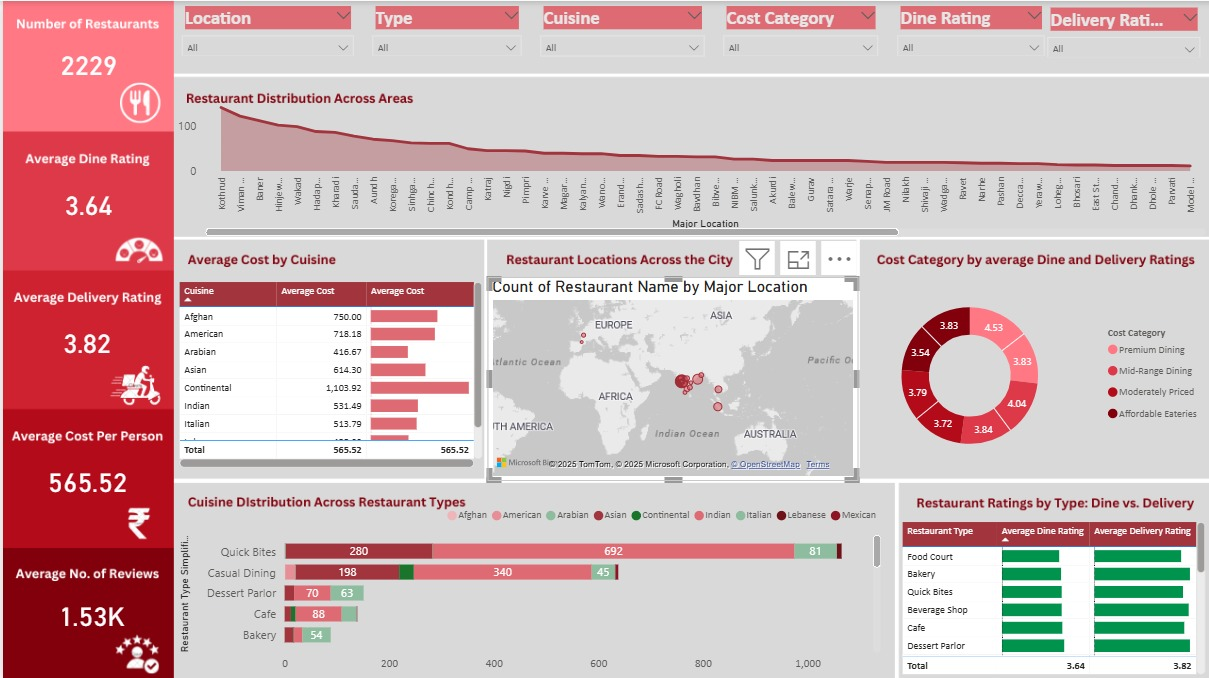

Layout of this report page (visuals, bound fields, positions):
{"tool":"powerbi","page":{"name":"Page 1","canvas":[1280,720],"ordinal":0},"visuals":[{"type":"card","fields":{"Values":["CountNonNull(Sheet2.Restaurant Name)"]},"box":[2,0,178,134],"z":0},{"type":"donutChart","fields":{"Category":["Sheet2.Cost Category"],"Y":["Avg(Sheet2.Dine Rating)","Avg(Sheet2.Delivery Rating)"]},"box":[873.2,294.3,407.2,205.2],"z":1000},{"type":"areaChart","fields":{"Category":["Sheet2.Major Location"],"Y":["CountNonNull(Sheet2.Restaurant Name)"]},"box":[180,94,1100,160],"z":2000},{"type":"barChart","fields":{"Category":["Sheet2.Restaurant Type Simplified"],"Series":["Sheet2.Cuisine Final"],"Y":["CountNonNull(Sheet2.Restaurant Name)"]},"box":[182,526,754,192],"z":3000},{"type":"tableEx","fields":{"Values":["Sheet2.Cuisine Final","Sheet2.Average Cost","Avg(Sheet2.Cost Rs.)"]},"box":[181.7,293.3,331.7,206.7],"z":4000},{"type":"card","fields":{"Values":["Avg(Sheet2.Dine Rating)"]},"box":[2,148,178,134],"z":5000},{"type":"card","fields":{"Values":["Avg(Sheet2.Delivery Rating)"]},"box":[0,294,178,134],"z":6000},{"type":"card","fields":{"Values":["Avg(Sheet2.Cost Rs.)"]},"box":[0,442,178,134],"z":7000},{"type":"card","fields":{"Values":["Avg(Sheet2.No. Of Delivery Reviews)"]},"box":[4,584,178,134],"z":8000},{"type":"tableEx","fields":{"Values":["Sheet2.Restaurant Type Simplified","Avg(Sheet2.Dine Rating)","Avg(Sheet2.Delivery Rating)"]},"box":[948.3,546.7,331.7,171.7],"z":9000},{"type":"slicer","fields":{"Values":["Sheet2.Major Location"]},"box":[180,0,202,58],"z":10000},{"type":"slicer","fields":{"Values":["Sheet2.Restaurant Type Simplified"]},"box":[382,0,178,58],"z":11000},{"type":"slicer","fields":{"Values":["Sheet2.Cuisine Final"]},"box":[560,0,194,60],"z":12000},{"type":"slicer","fields":{"Values":["Sheet2.Cost Category"]},"box":[754,0,184,58],"z":13000},{"type":"slicer","fields":{"Values":["Sheet2.Dine Rating Category"]},"box":[938,0,176,58],"z":14000},{"type":"slicer","fields":{"Values":["Sheet2.Delivery Rating Category"]},"box":[1098,2,182,58],"z":15000},{"type":"map","fields":{"Category":["Sheet2.Major Location"],"Size":["CountNonNull(Sheet2.Restaurant Name)"]},"box":[513.8,292.7,392.9,216.3],"z":16000}]}

Visuals, with their boxes in screenshot pixels (x1, y1, x2, y2), scaled from the page's 1280x720 canvas onto the 1209x678 screenshot:
card - CountNonNull(Sheet2.Restaurant Name): 2 0 170 126
donutChart - Sheet2.Cost Category x Avg(Sheet2.Dine Rating): 825 277 1208 470
areaChart - Sheet2.Major Location x CountNonNull(Sheet2.Restaurant Name): 170 89 1208 239
barChart - Sheet2.Restaurant Type Simplified x Sheet2.Cuisine Final: 172 495 884 676
tableEx - Sheet2.Cuisine Final x Sheet2.Average Cost: 172 276 485 471
card - Avg(Sheet2.Dine Rating): 2 139 170 266
card - Avg(Sheet2.Delivery Rating): 0 277 168 403
card - Avg(Sheet2.Cost Rs.): 0 416 168 542
card - Avg(Sheet2.No. Of Delivery Reviews): 4 550 172 676
tableEx - Sheet2.Restaurant Type Simplified x Avg(Sheet2.Dine Rating): 896 515 1208 676
slicer - Sheet2.Major Location: 170 0 361 55
slicer - Sheet2.Restaurant Type Simplified: 361 0 529 55
slicer - Sheet2.Cuisine Final: 529 0 712 56
slicer - Sheet2.Cost Category: 712 0 886 55
slicer - Sheet2.Dine Rating Category: 886 0 1052 55
slicer - Sheet2.Delivery Rating Category: 1037 2 1208 56
map - Sheet2.Major Location x CountNonNull(Sheet2.Restaurant Name): 485 276 856 479
